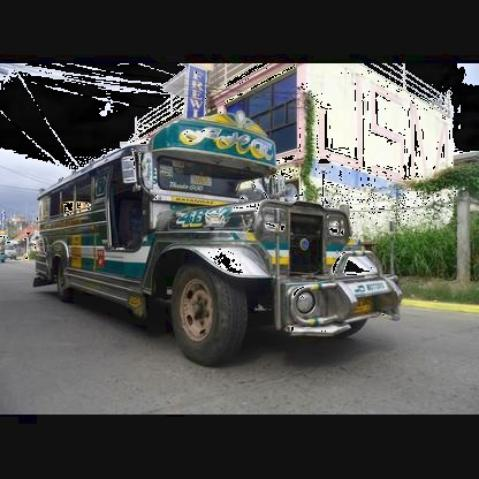jeepney: (18, 111, 415, 373)
